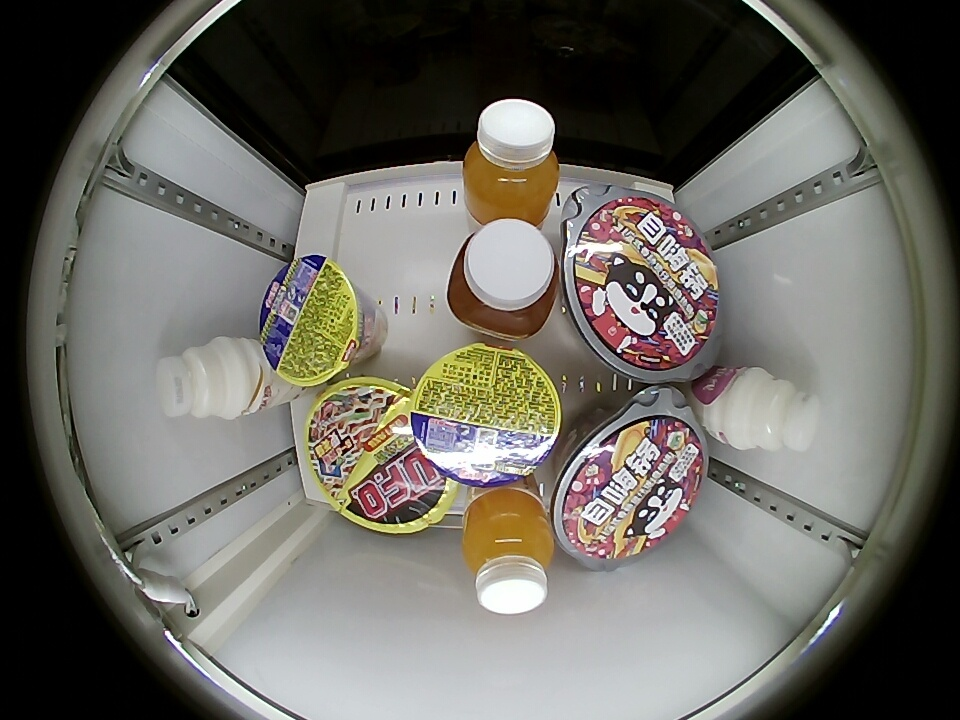chapai: (446, 218, 560, 341)
heweidao: (409, 342, 562, 486), (260, 256, 365, 385)
ufo: (302, 378, 458, 534)
weic: (461, 99, 561, 225), (461, 489, 555, 614)
yingyangkuaixian: (728, 367, 821, 451), (157, 335, 247, 420)
zihaiguo: (573, 197, 718, 372), (561, 414, 703, 559)
